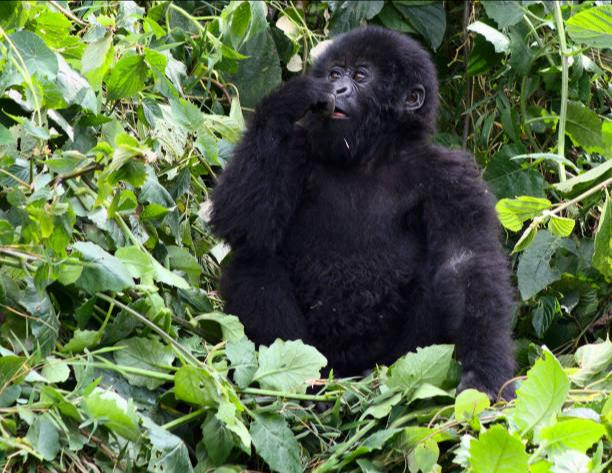goriile_montagne: (202, 5, 530, 398)
